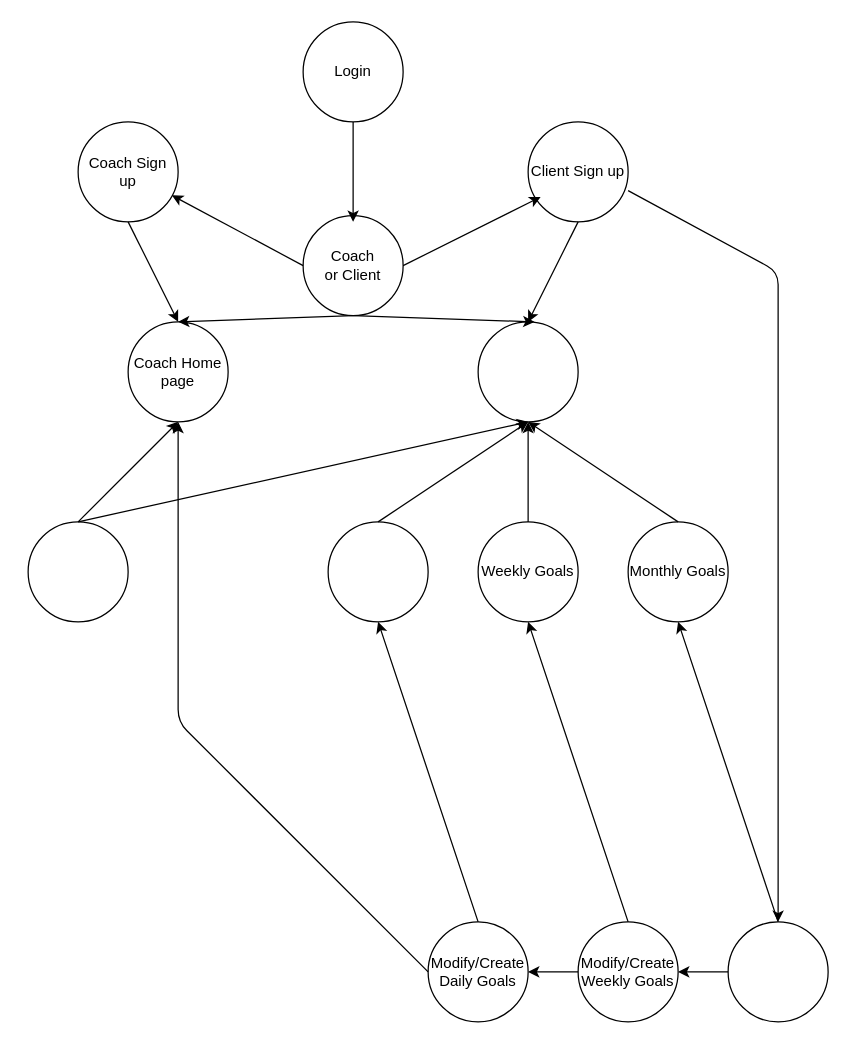
This 850x1044 diagram has some shape labels left out. The centre of each missing label's shape, as x and y in pixels:
"Appointments" belongs at [77,571].
"Client Home Page" belongs at [527,371].
"Daily Goals" belongs at [377,571].
"Modify/Create Monthly Goal" belongs at [777,971].
